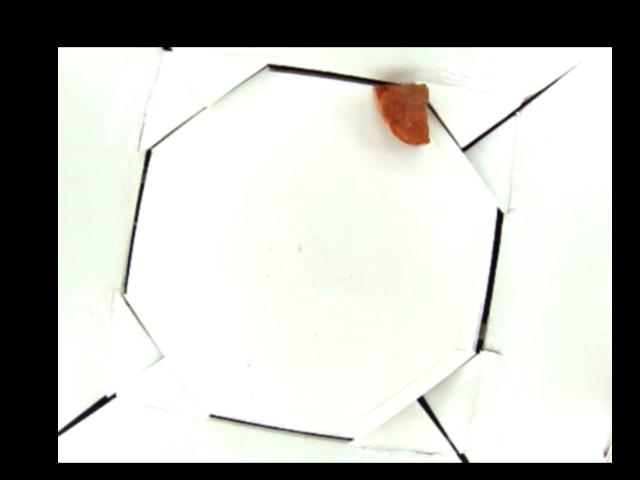Brisk: (372, 81, 433, 145)
